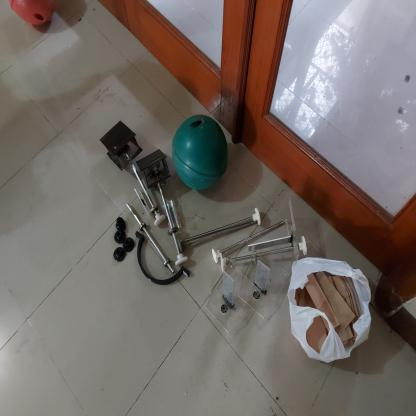green_buoy: (169, 113, 232, 194)
